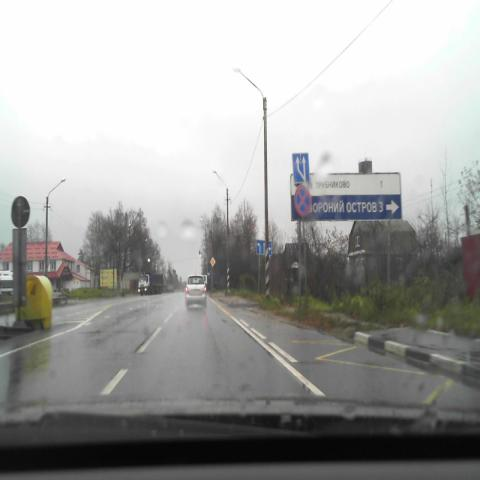5_15_3: (292, 153, 310, 183)
